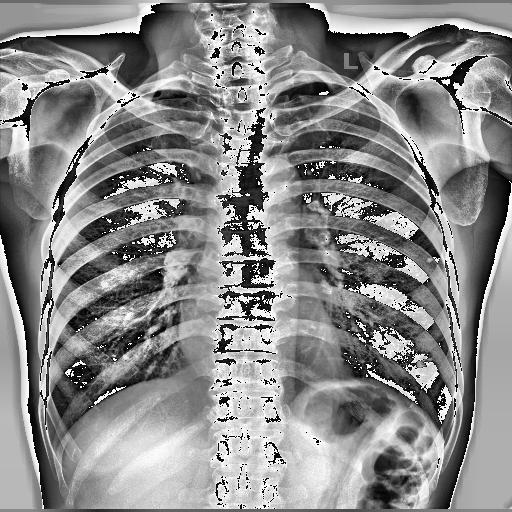13- Pulmonary fibrosis: (414, 356, 434, 368)
2- Calcification: (302, 198, 347, 295), (304, 196, 344, 294), (163, 250, 189, 278), (412, 355, 434, 368), (413, 355, 433, 367), (426, 256, 432, 263)
8- Nodule-Mass: (428, 258, 434, 264)
9- Other lesion: (304, 196, 344, 294), (163, 250, 189, 278)
